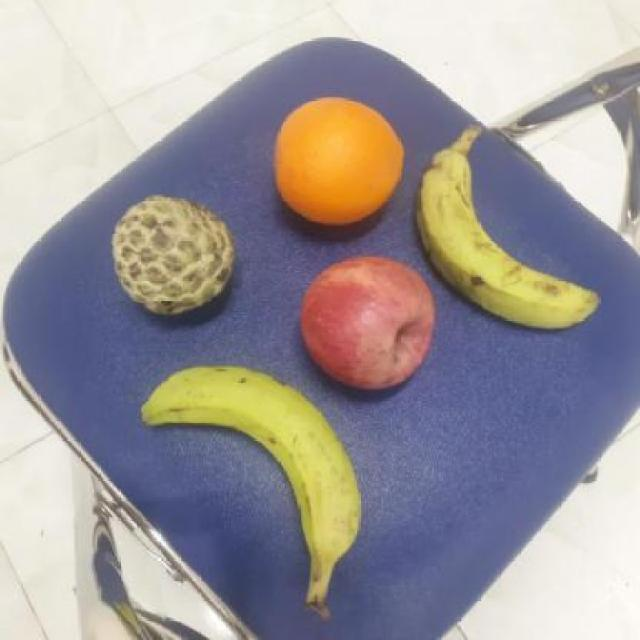apple: (293, 248, 439, 388)
banana: (136, 363, 372, 579), (412, 139, 600, 330)
oren: (269, 90, 408, 228)
sugar apple: (106, 187, 240, 315)
